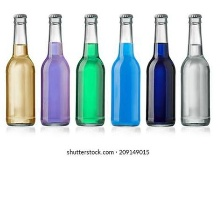bottle: (38, 10, 75, 129), (108, 12, 145, 130), (2, 10, 38, 128), (143, 8, 178, 129), (177, 12, 213, 129), (72, 10, 107, 130)
